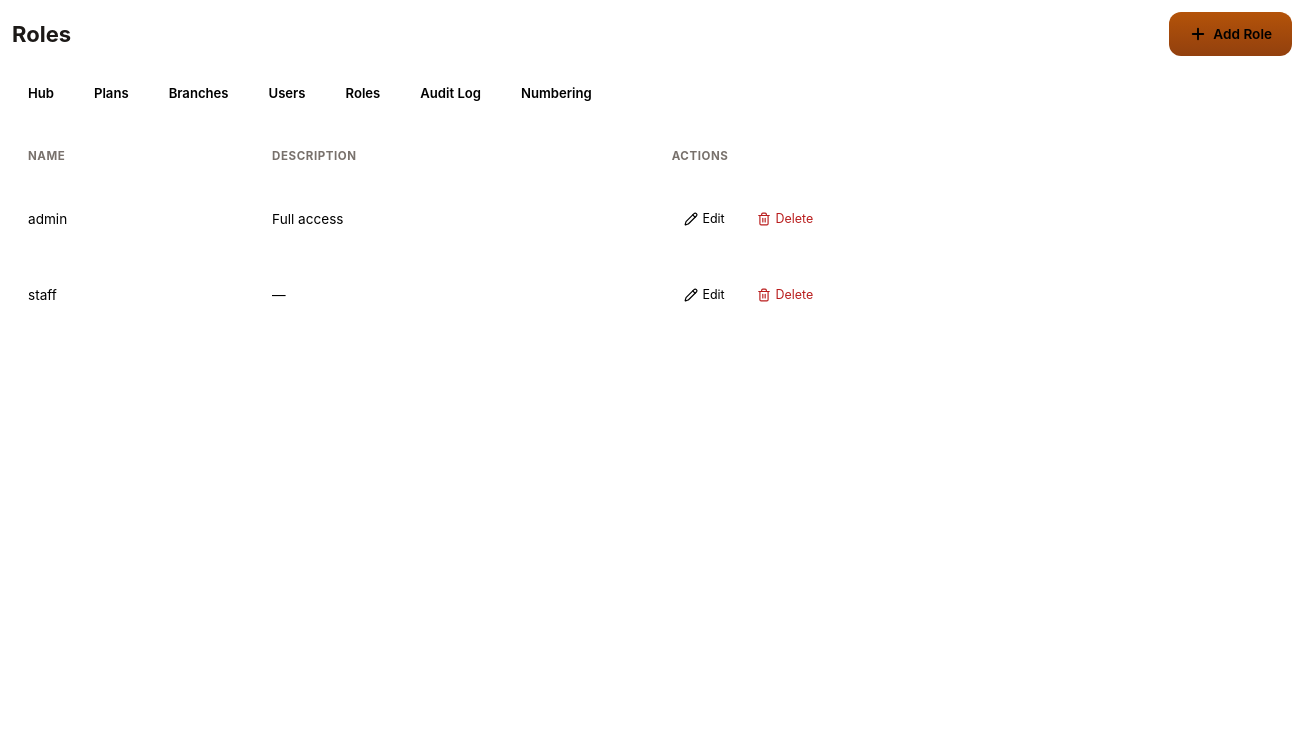
ManageRolesPage — add / edit / delete › requires a name but not a description
Step 1. Click the button "Add Role" → point(1230, 34), box [1169,12,1292,56]
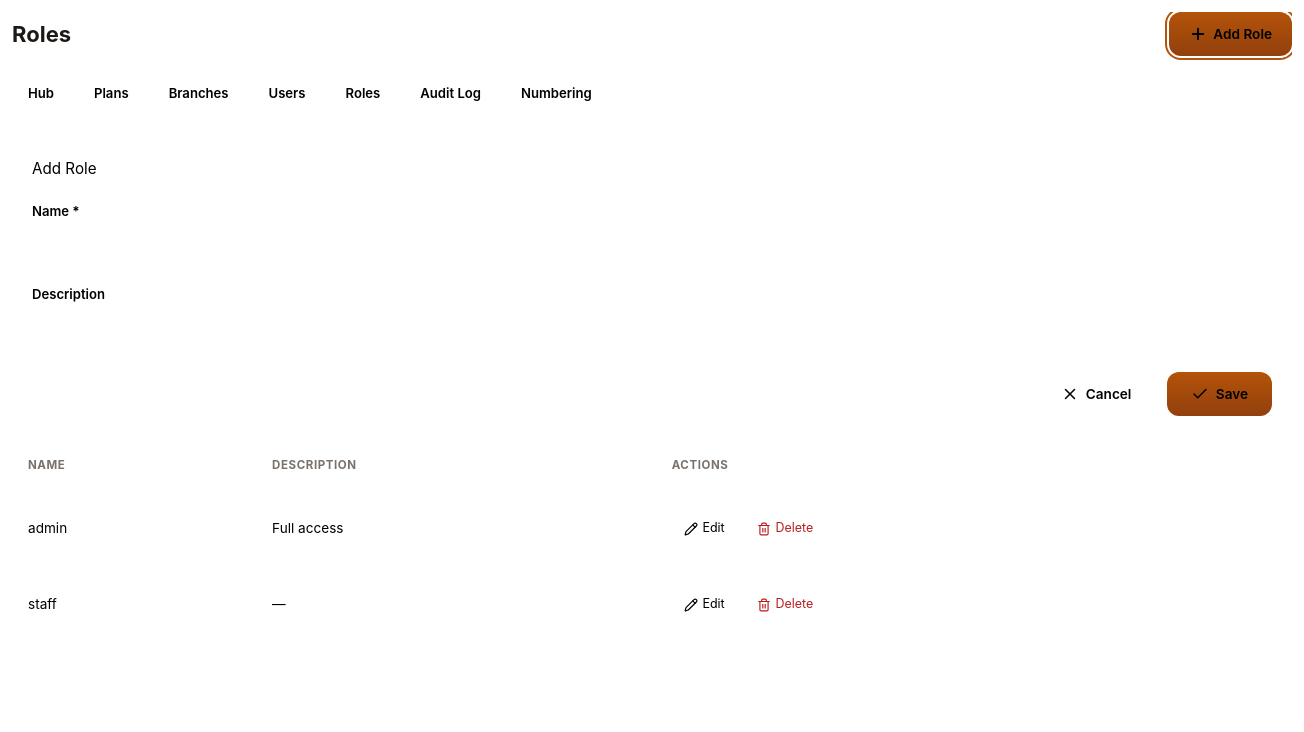
Step 2. Click the button "Save" → point(1220, 394), box [1167,372,1272,416]
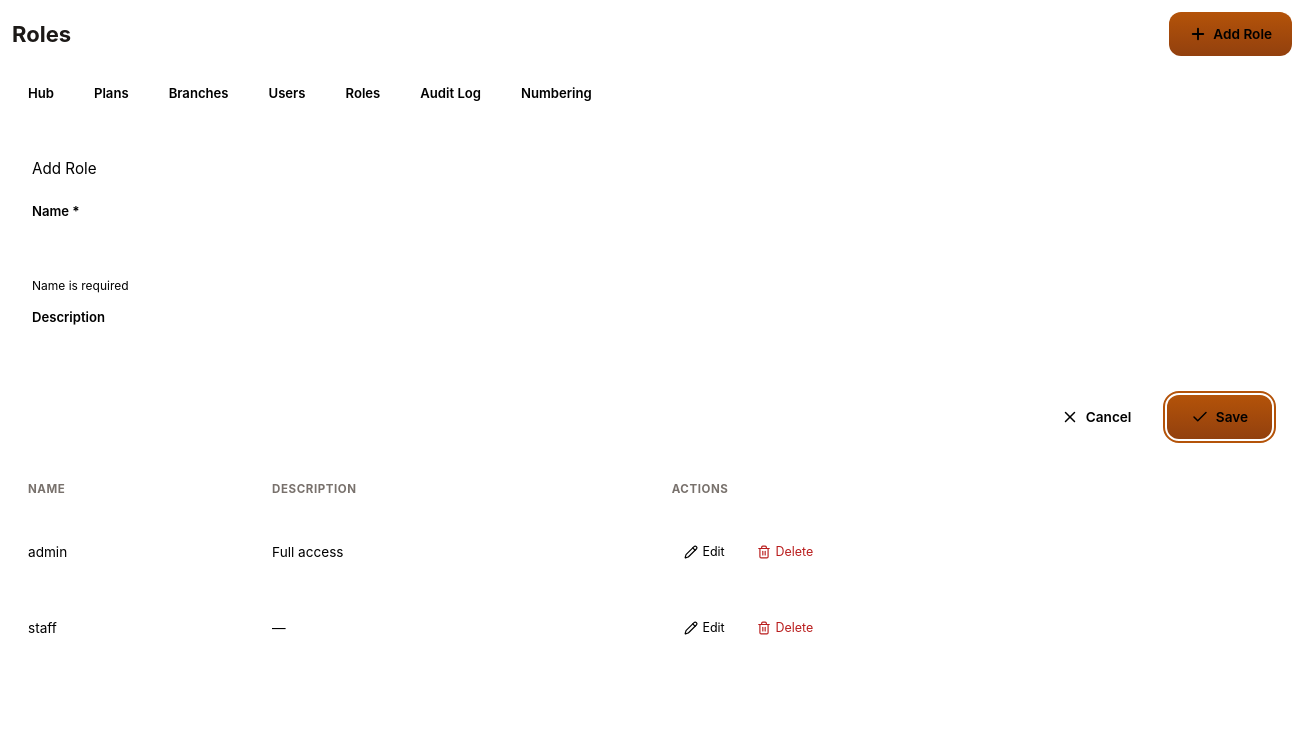
Result: the text "Name is required" is shown at [32,278,129,293]
